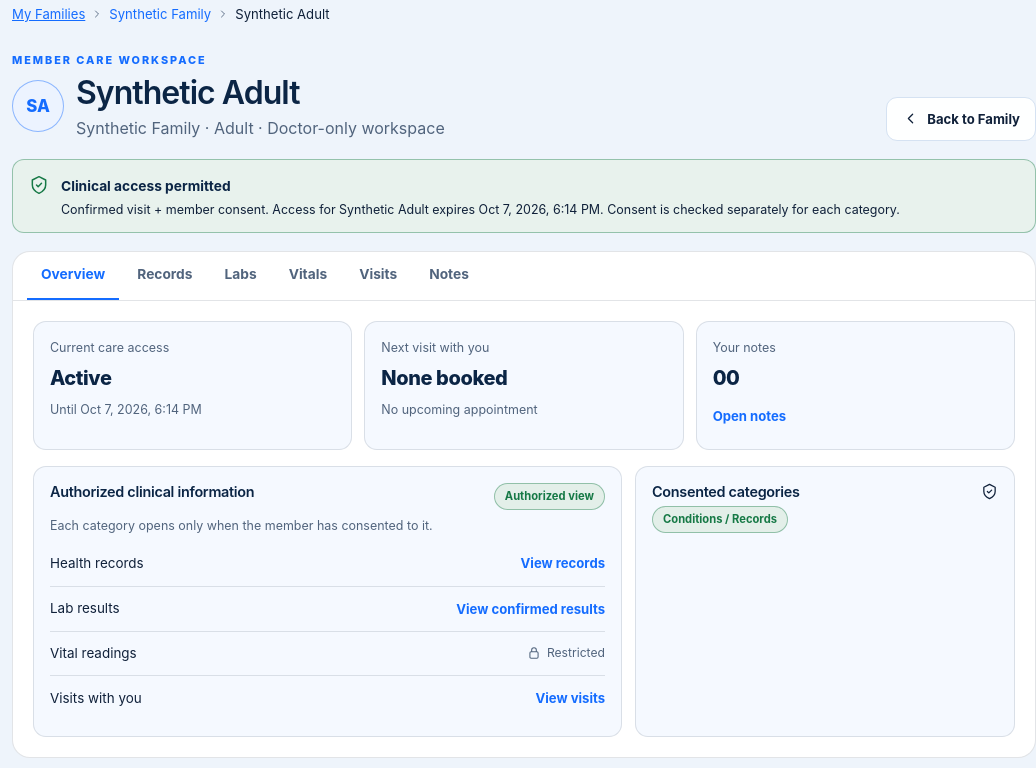
DoctorMemberPage › shows consented labs with deterministic range status during a visit and saves a note
expect the text "Clinical access permitted" is shown: met, box [61, 178, 231, 194]
expect the text "Conditions / Records" is shown: met, box [652, 506, 788, 533]
Click the tab "Labs" at (241, 276), box [210, 252, 271, 300]
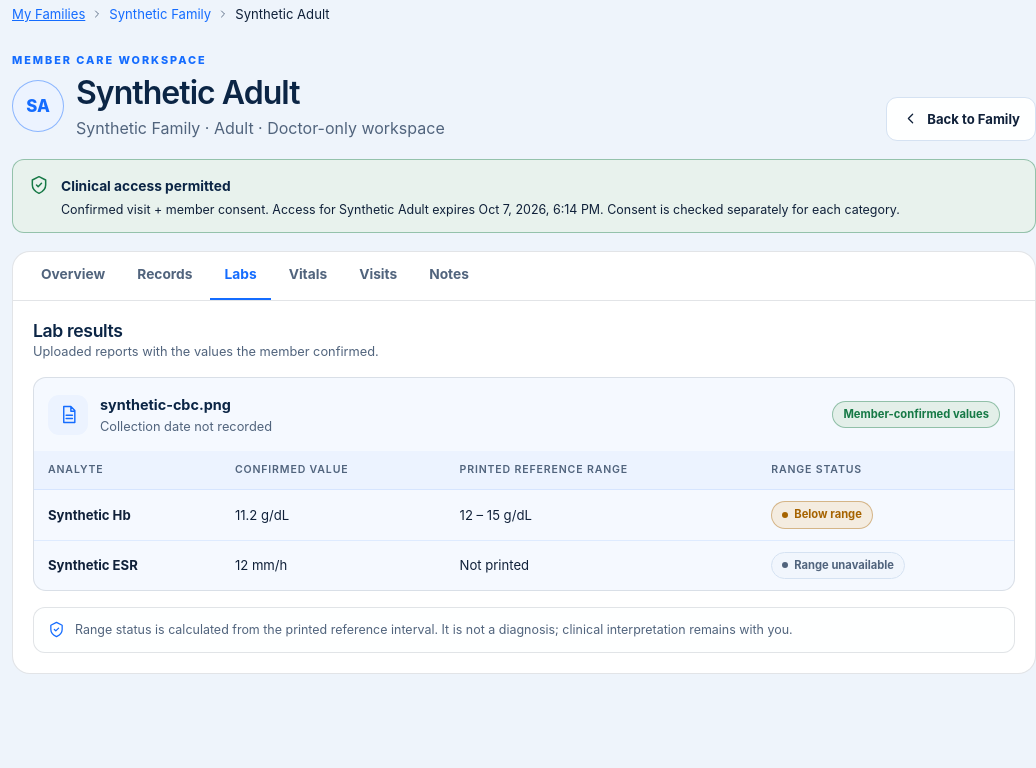
expect the text "Below range" is shown: met, box [771, 501, 873, 529]
expect the text "12 – 15 g/dL" is shown: met, box [446, 490, 757, 540]
expect the text "Not printed" is shown: met, box [446, 540, 757, 590]
Click the tab "Vitals" at (308, 276), box [275, 252, 341, 300]
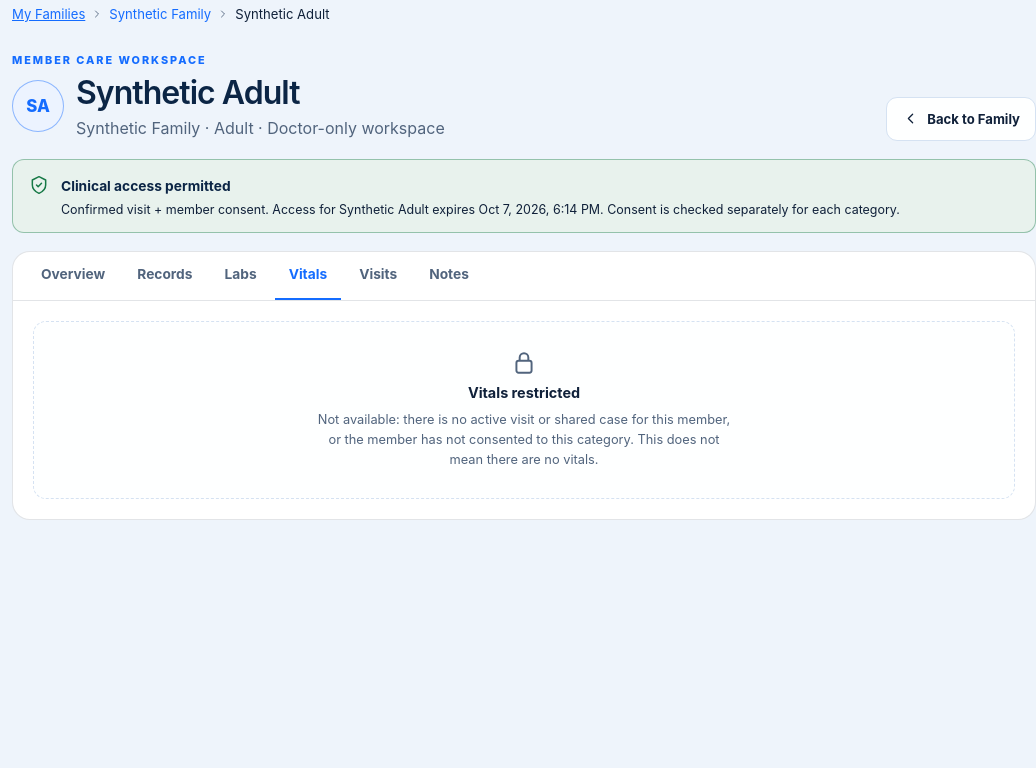
expect the text "Vitals restricted" is shown: met, box [468, 382, 580, 404]
Click the tab "Notes" at (449, 276), box [415, 252, 483, 300]
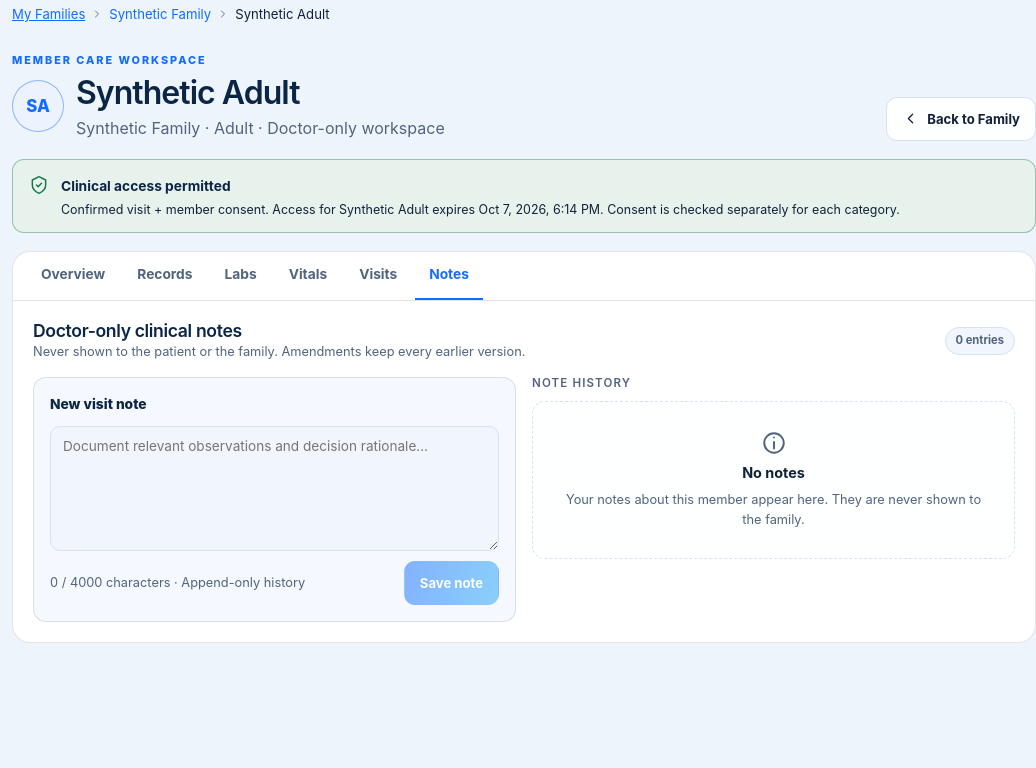
Type "Synthetic visit note" into the text box labelled "New visit note" at (274, 488), box [50, 426, 499, 551]
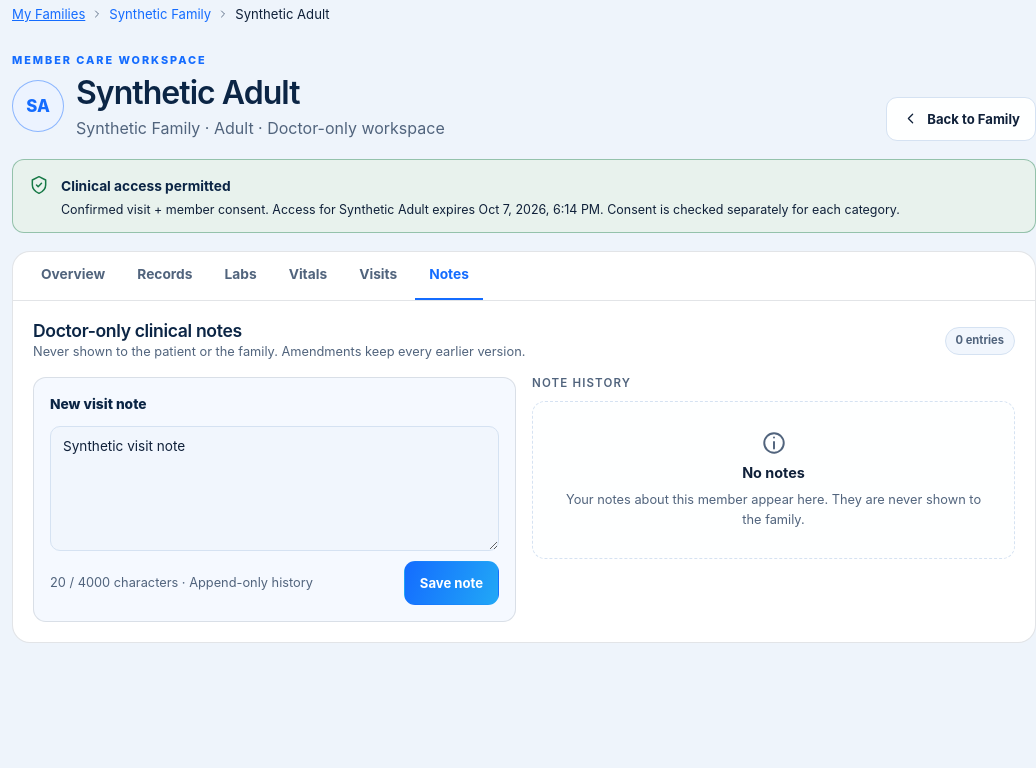
Click the button "Save note" at (451, 583), box [404, 561, 499, 605]
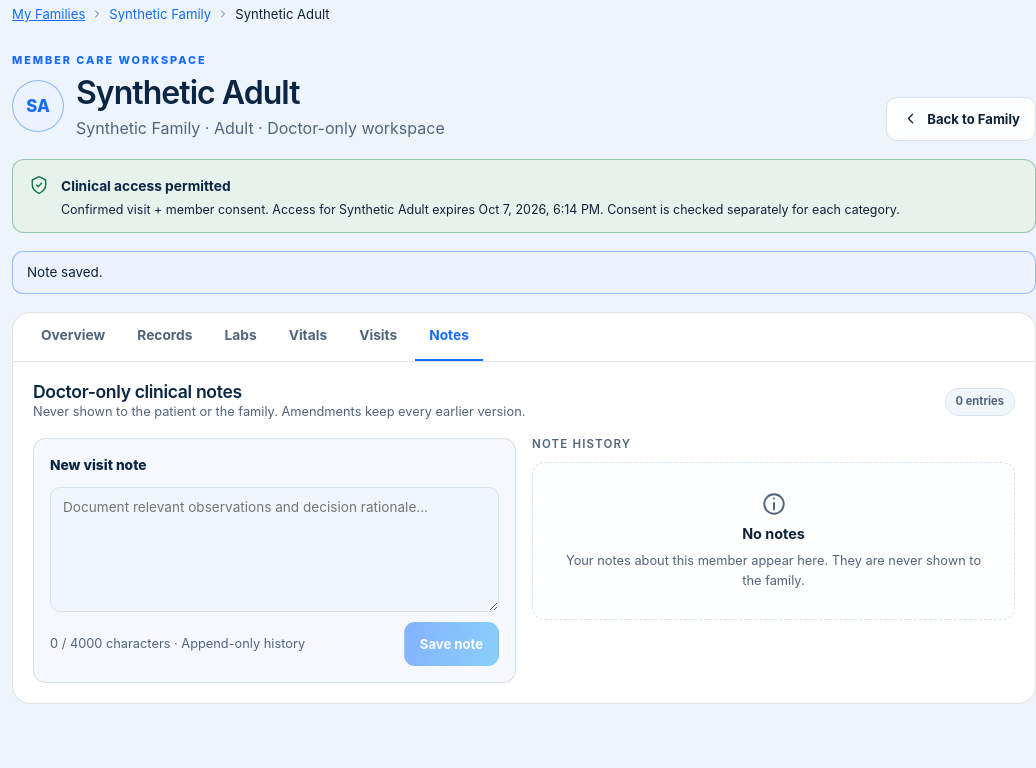
expect the text "Note saved." is shown: met, box [12, 251, 1035, 294]
